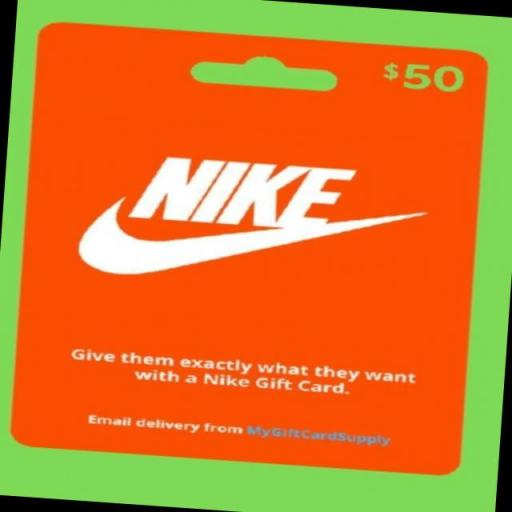Nike: (74, 203, 373, 294), (123, 150, 360, 236)
